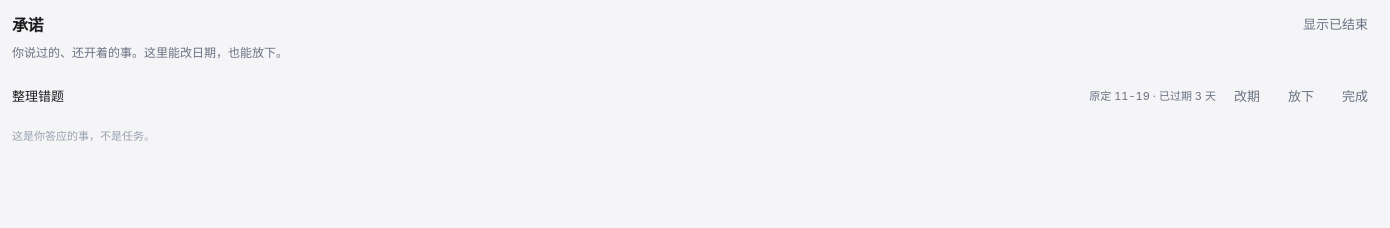
Scenario: 改期 prefills today for an overdue promise and defers the past-date rule to the service
Click the button with aria-label "改期：整理错题" at (1247, 96), box [1224,82,1270,110]
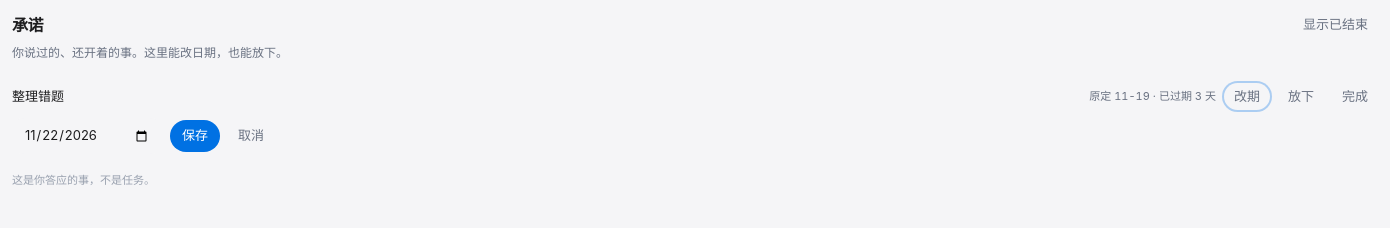
Now the date field named "新日期：整理错题" holds "2026-11-22"
Type "2026-11-20" into the date field named "新日期：整理错题" at (87, 136), box [12,118,162,154]
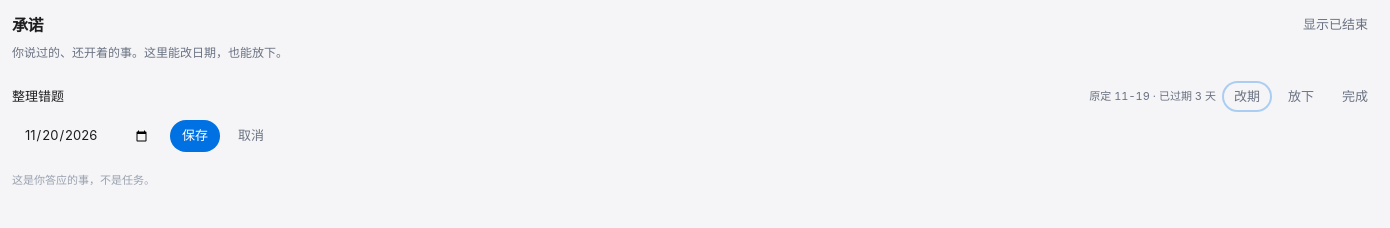
Click the button "保存" at (195, 136), box [170,120,220,152]
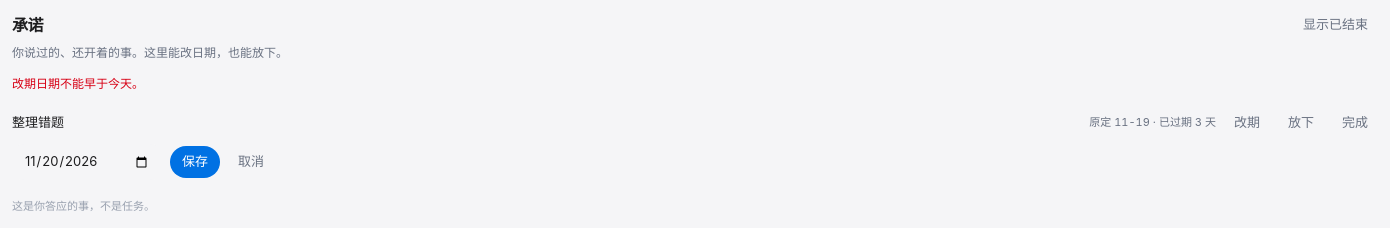
Now the text "改期日期不能早于今天。" is shown, box [12,76,144,90]
Note: Past the one-year bound is refused locally with its own sentence.
Type "2028-01-01" into the date field named "新日期：整理错题" at (87, 162), box [12,144,162,180]
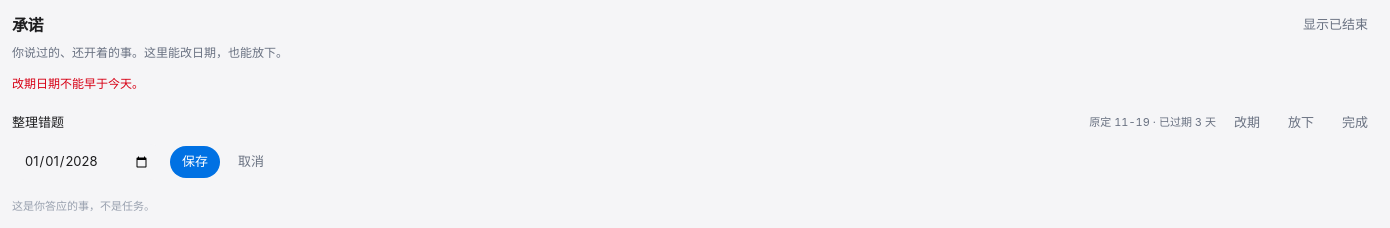
Click the button "保存" at (195, 162), box [170,146,220,178]
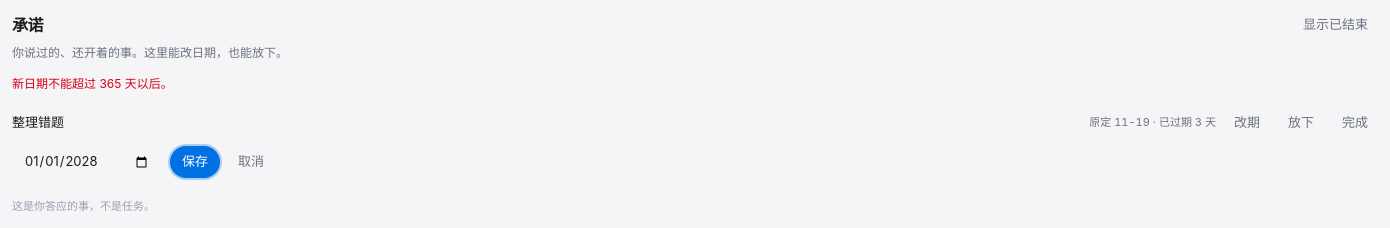
Now the text "新日期不能超过 365 天以后。" is shown, box [12,76,173,90]
